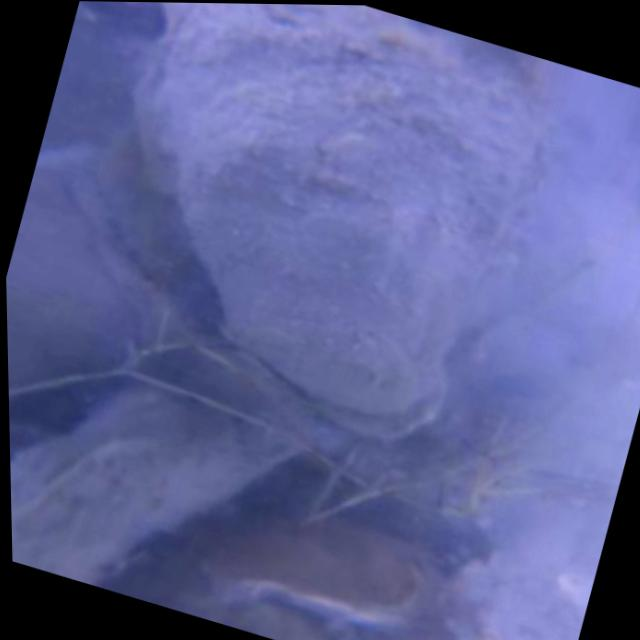Oyster-Closed: (142, 3, 563, 434)
Oyster-Indeterminate: (10, 356, 268, 575), (6, 144, 140, 390), (198, 524, 442, 624)
